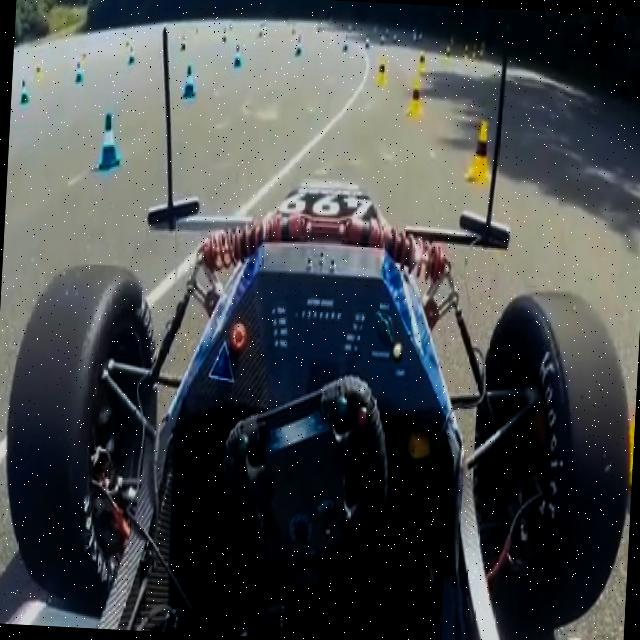blue_cone: (86, 104, 126, 182), (180, 62, 198, 101), (229, 40, 249, 72), (294, 30, 306, 60), (340, 30, 350, 54)
yellow_cone: (620, 328, 640, 508), (468, 109, 496, 194), (407, 72, 428, 124), (372, 55, 388, 90)
